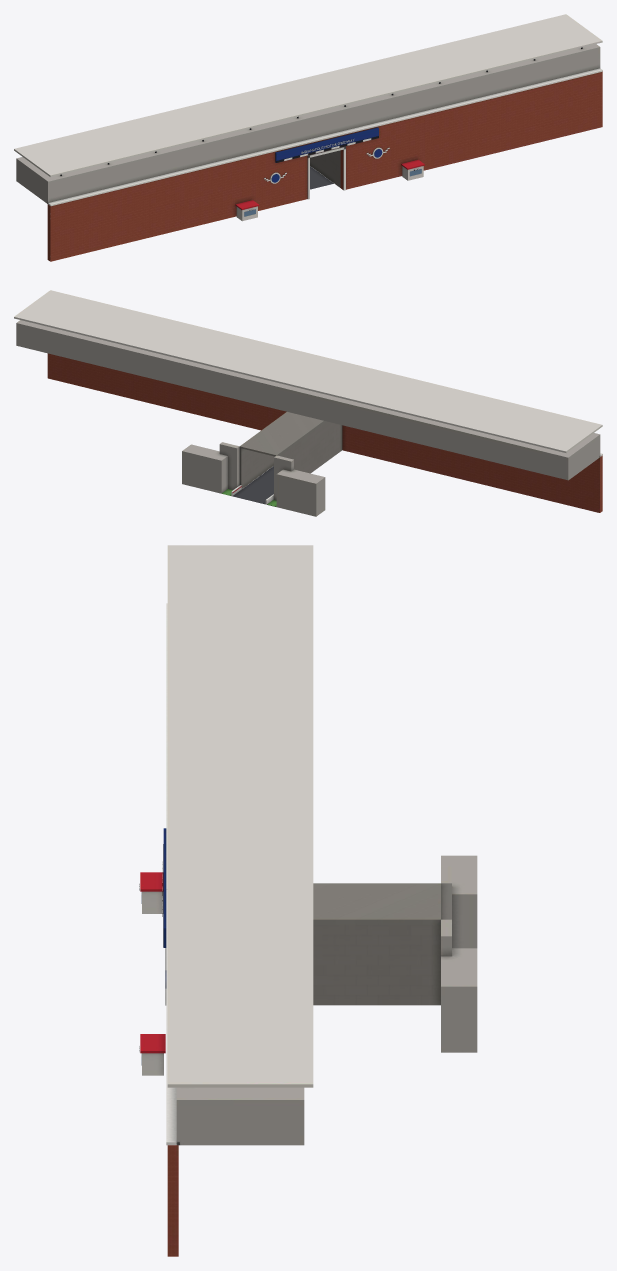
The model's file is circuito_entrada.glb.
The picture shows the model from 3 angles, top to bottom: view 1: azimuth 30°, elevation 25°; view 2: azimuth 150°, elevation 25°; view 3: azimuth 270°, elevation 25°; orthographic projection. The views are drawn at different scales.
Visible parts, largest first — view 1: circuito_entrada; view 2: circuito_entrada; view 3: circuito_entrada.
Boxes of the visible parts, x1=… form: circuito_entrada: x1=14, y1=14, x2=602, y2=261; circuito_entrada: x1=14, y1=290, x2=602, y2=516; circuito_entrada: x1=139, y1=545, x2=477, y2=1256.
Size of the model in its own units: 140 by 20.9 by 37.07.
1 material, 1 textured.
